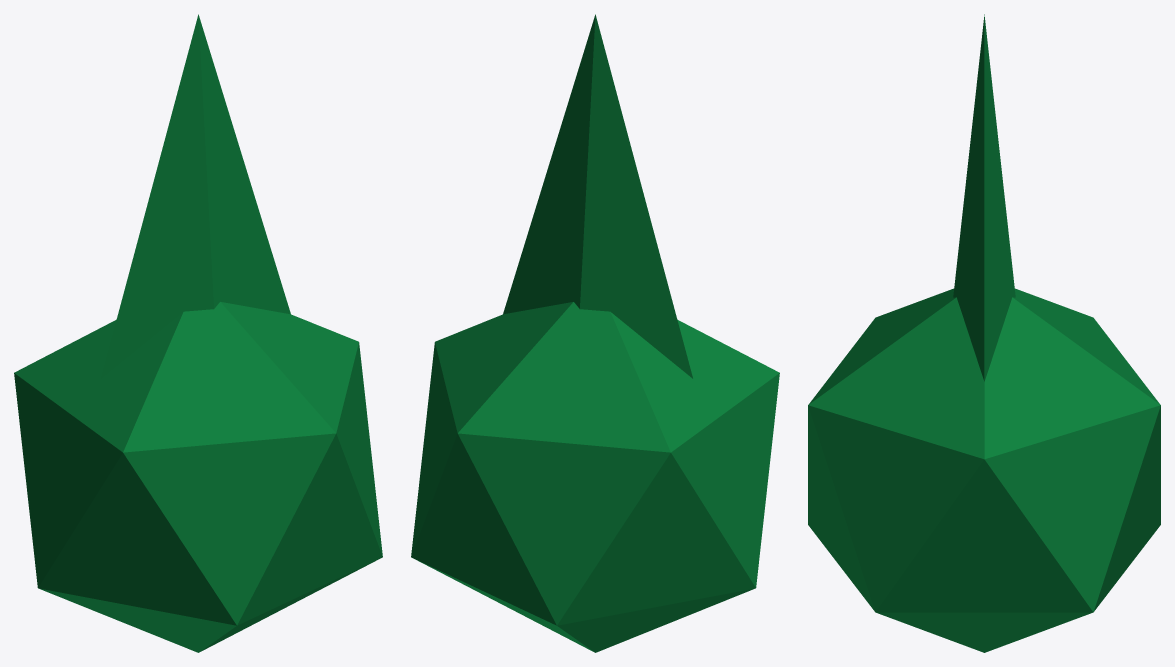
Rendered from Item_OR_Herb_00.glb.
3 views of the same model, side by side, from view 1: azimuth 30°, elevation 25°; view 2: azimuth 150°, elevation 25°; view 3: azimuth 270°, elevation 25° (orthographic).
Parts seen in each view (by area): view 1: Item_OR_Herb_00; view 2: Item_OR_Herb_00; view 3: Item_OR_Herb_00.
Boxes of the visible parts, x1,y1,x2,y2 form: Item_OR_Herb_00: (14, 14, 382, 652); Item_OR_Herb_00: (411, 14, 779, 652); Item_OR_Herb_00: (808, 14, 1160, 652).
Bounding box in the file's own units: 0.0894 × 0.17 × 0.0851.
